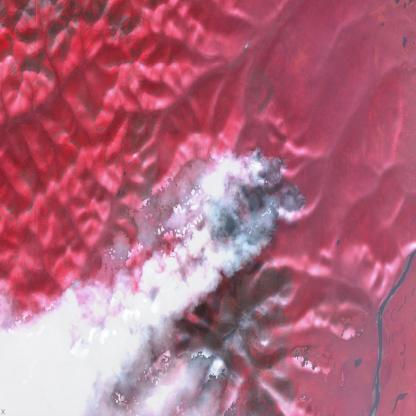fire: (204, 141, 310, 282)
